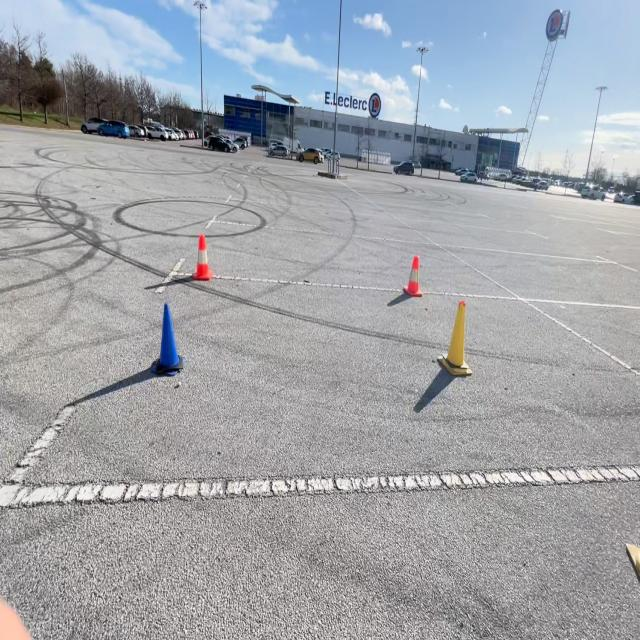blue_cone: (150, 298, 185, 376)
orange_cone: (191, 233, 215, 281), (402, 252, 424, 297)
yellow_cone: (438, 298, 473, 377)
